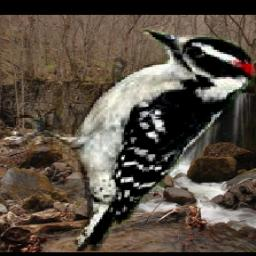Woodpecker: (0, 29, 256, 252)
